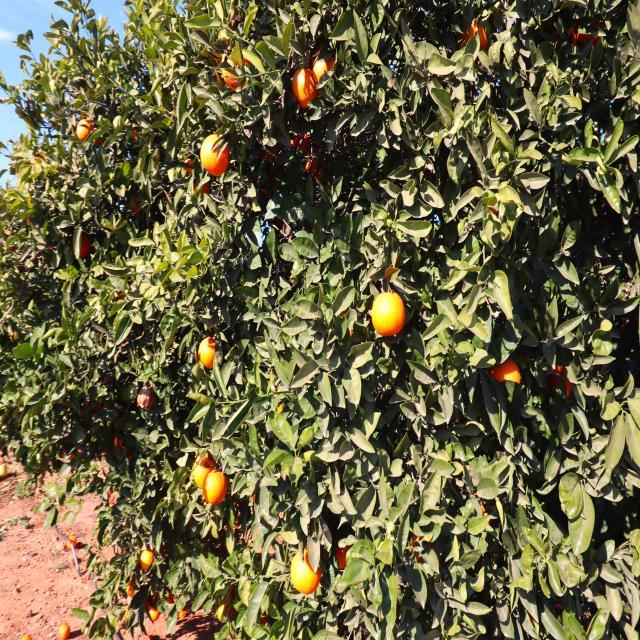Jeruk Sudah Matang: (560, 15, 606, 55), (372, 290, 406, 336), (290, 548, 322, 596), (222, 48, 256, 92), (488, 356, 523, 398), (200, 132, 232, 177), (544, 359, 576, 402), (406, 528, 436, 569), (292, 66, 318, 110), (192, 448, 215, 490), (462, 16, 488, 53), (203, 470, 229, 506), (313, 50, 338, 86), (197, 338, 222, 371), (289, 124, 313, 154), (6, 319, 31, 347), (305, 155, 327, 186), (334, 538, 354, 572), (31, 150, 54, 176), (73, 228, 92, 258), (259, 136, 278, 166), (74, 116, 92, 143), (106, 487, 125, 512), (147, 596, 165, 621), (91, 124, 108, 150), (130, 120, 150, 142), (60, 446, 80, 468), (192, 179, 212, 199), (141, 548, 157, 573), (217, 601, 234, 622), (122, 452, 140, 470), (182, 156, 196, 178), (164, 586, 178, 606), (126, 580, 141, 598), (112, 433, 126, 451), (175, 601, 189, 619), (22, 208, 36, 224)
